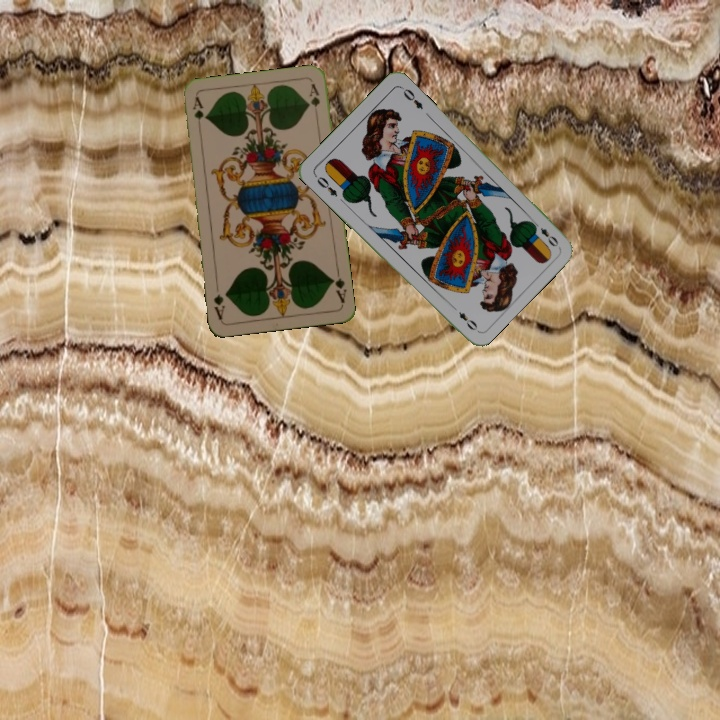EO: (528, 217, 561, 249), (310, 171, 340, 199)
GA: (327, 266, 349, 305), (188, 93, 206, 134)
